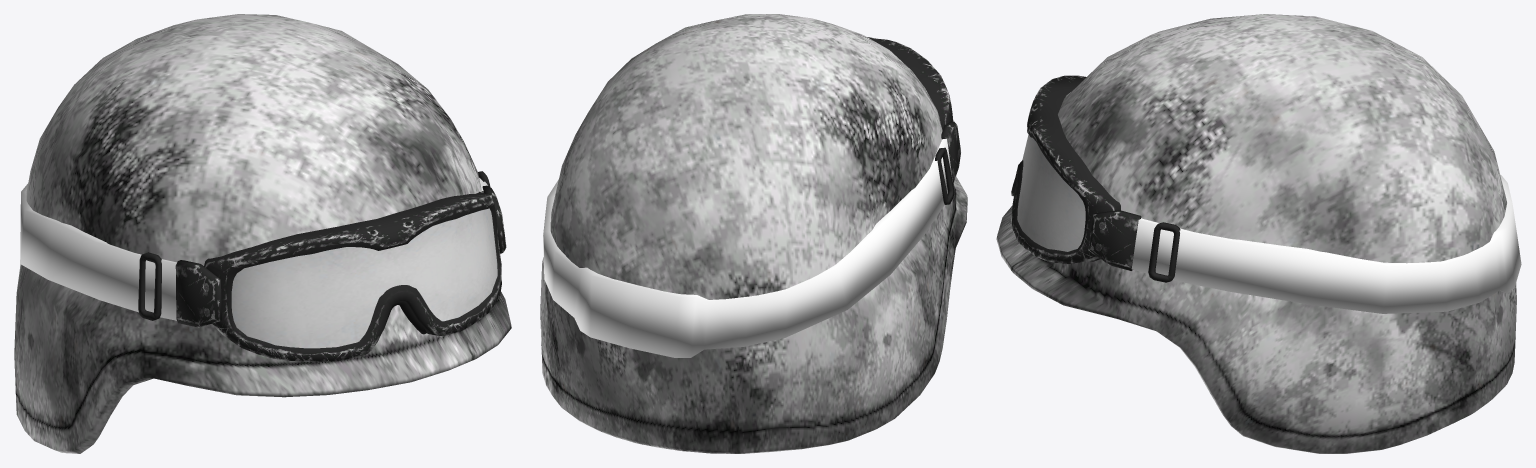
The model's file is SurvivorMale_Head_Helmet_TacticalGoggles_LOD0.glb.
3 renders of one model, left to right at view 1: azimuth 30°, elevation 25°; view 2: azimuth 150°, elevation 25°; view 3: azimuth 270°, elevation 25°, orthographic. The views are drawn at different scales.
Parts seen in each view (by area): view 1: Hoodie; view 2: Hoodie; view 3: Hoodie.
Part boxes in pixels (left/top/right/bottom): Hoodie: left=14, top=14, right=511, bottom=453; Hoodie: left=540, top=14, right=967, bottom=453; Hoodie: left=996, top=14, right=1521, bottom=453.
Size of the model in its own units: 0.2055 by 0.1843 by 0.2595.
Materials: 1 (1 with a texture image).
